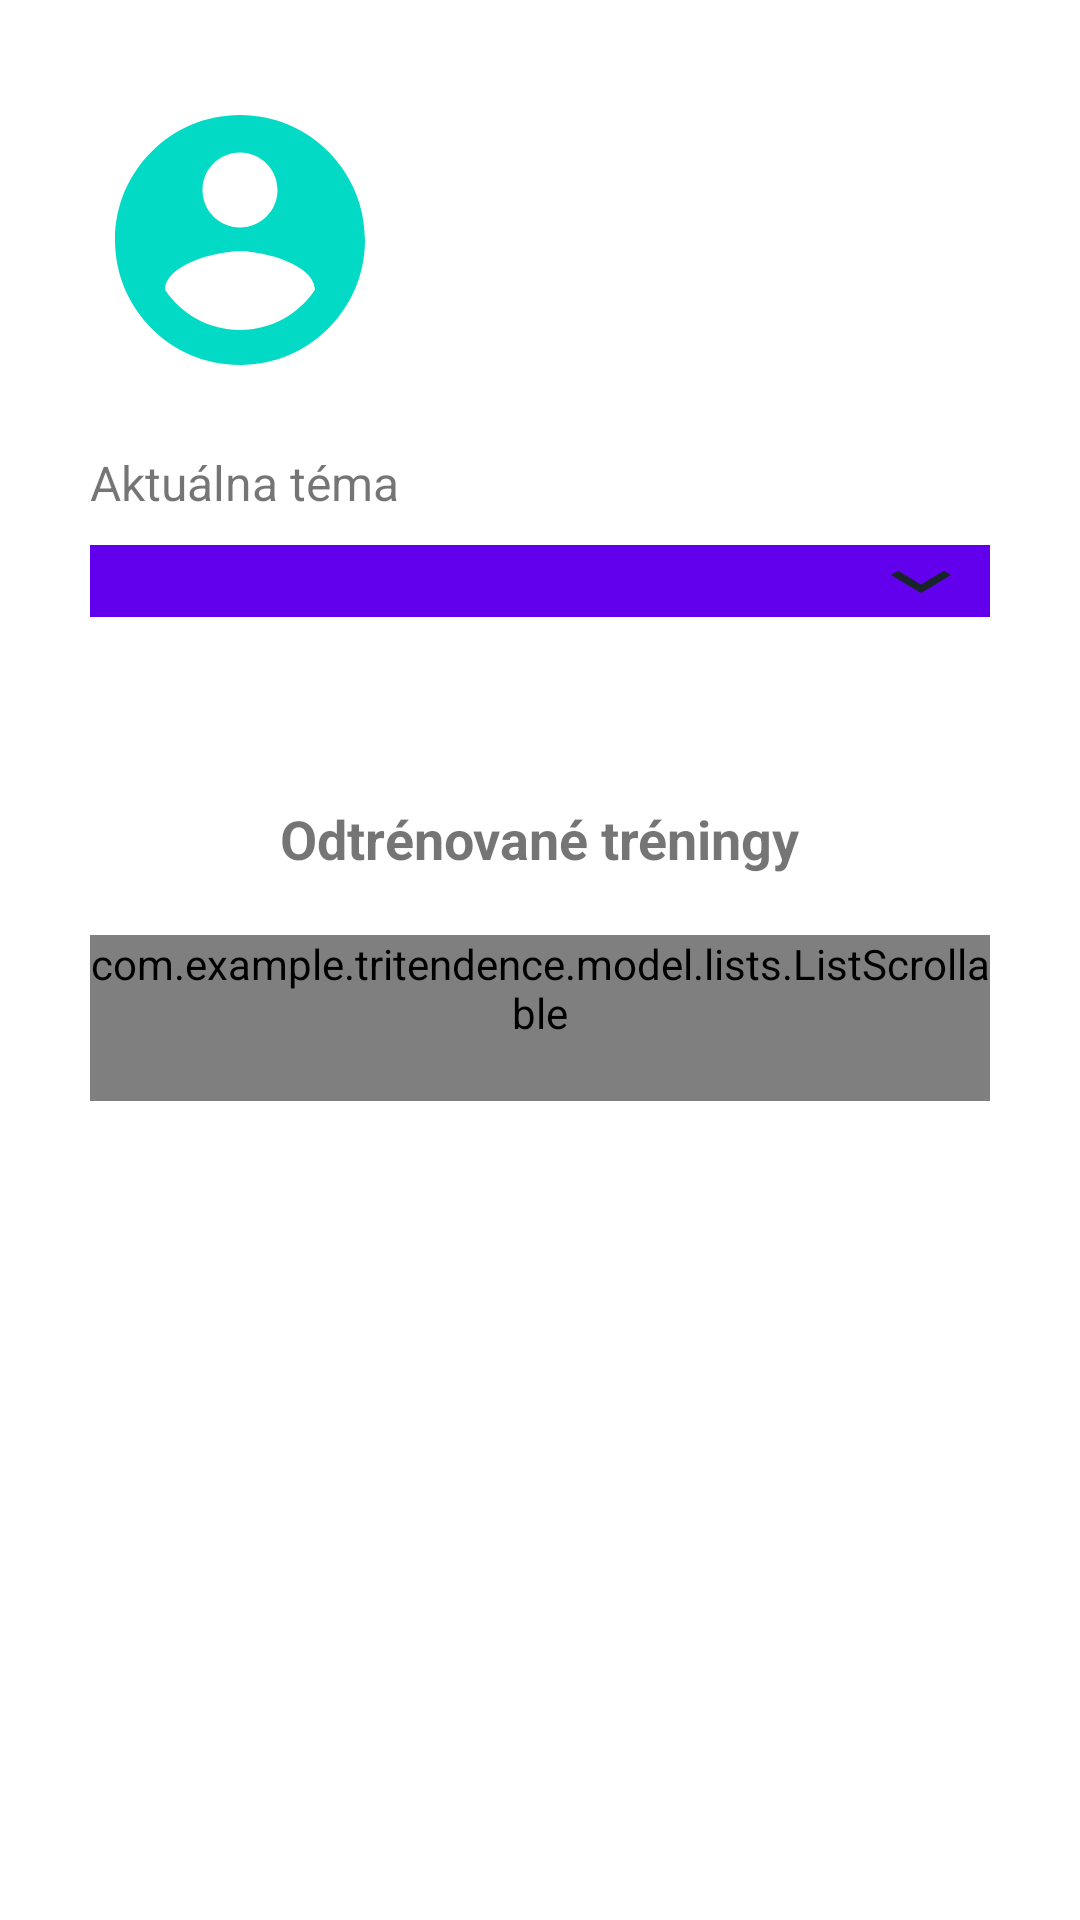

Where icons sit on this 1080px×1920px app screen, as (x1, y1, x2, y2):
profile: (115, 115, 365, 365)
